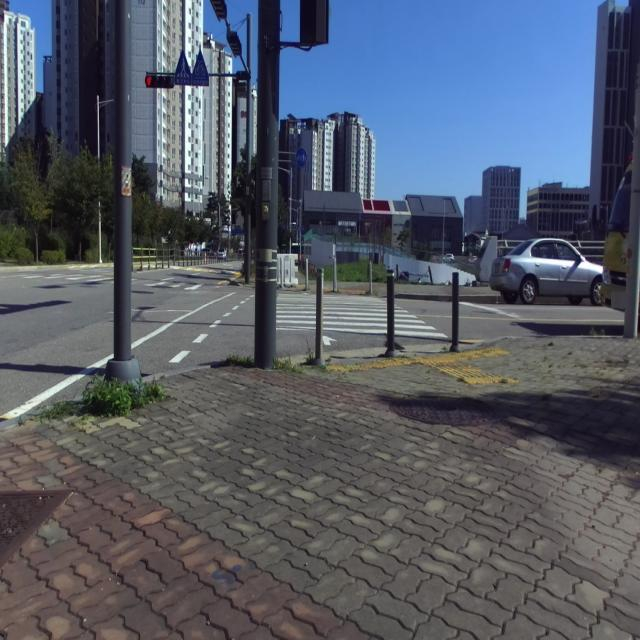횡단보도: (276, 293, 449, 345)
